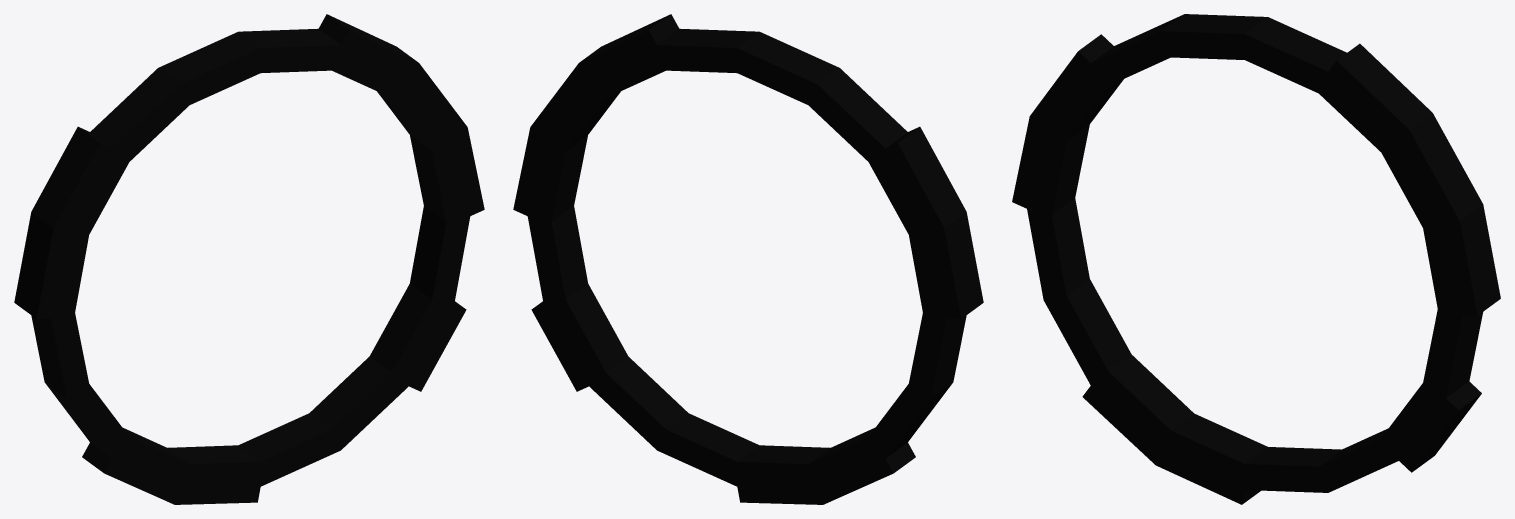
File: space_SM_Hud_Rings_04.gltf
3 renders of one model, left to right at view 1: azimuth 30°, elevation 25°; view 2: azimuth 150°, elevation 25°; view 3: azimuth 330°, elevation 25°, orthographic. The views are drawn at different scales.
Parts seen in each view (by area): view 1: SM_Hud_Rings_04; view 2: SM_Hud_Rings_04; view 3: SM_Hud_Rings_04.
Part boxes in pixels (<box>): SM_Hud_Rings_04: <box>14,14,484,504</box>; SM_Hud_Rings_04: <box>513,14,983,504</box>; SM_Hud_Rings_04: <box>1012,14,1500,504</box>.
Bounding box in the file's own units: 0.2513 × 0.2432 × 0.0217.
1 material, 1 textured.
